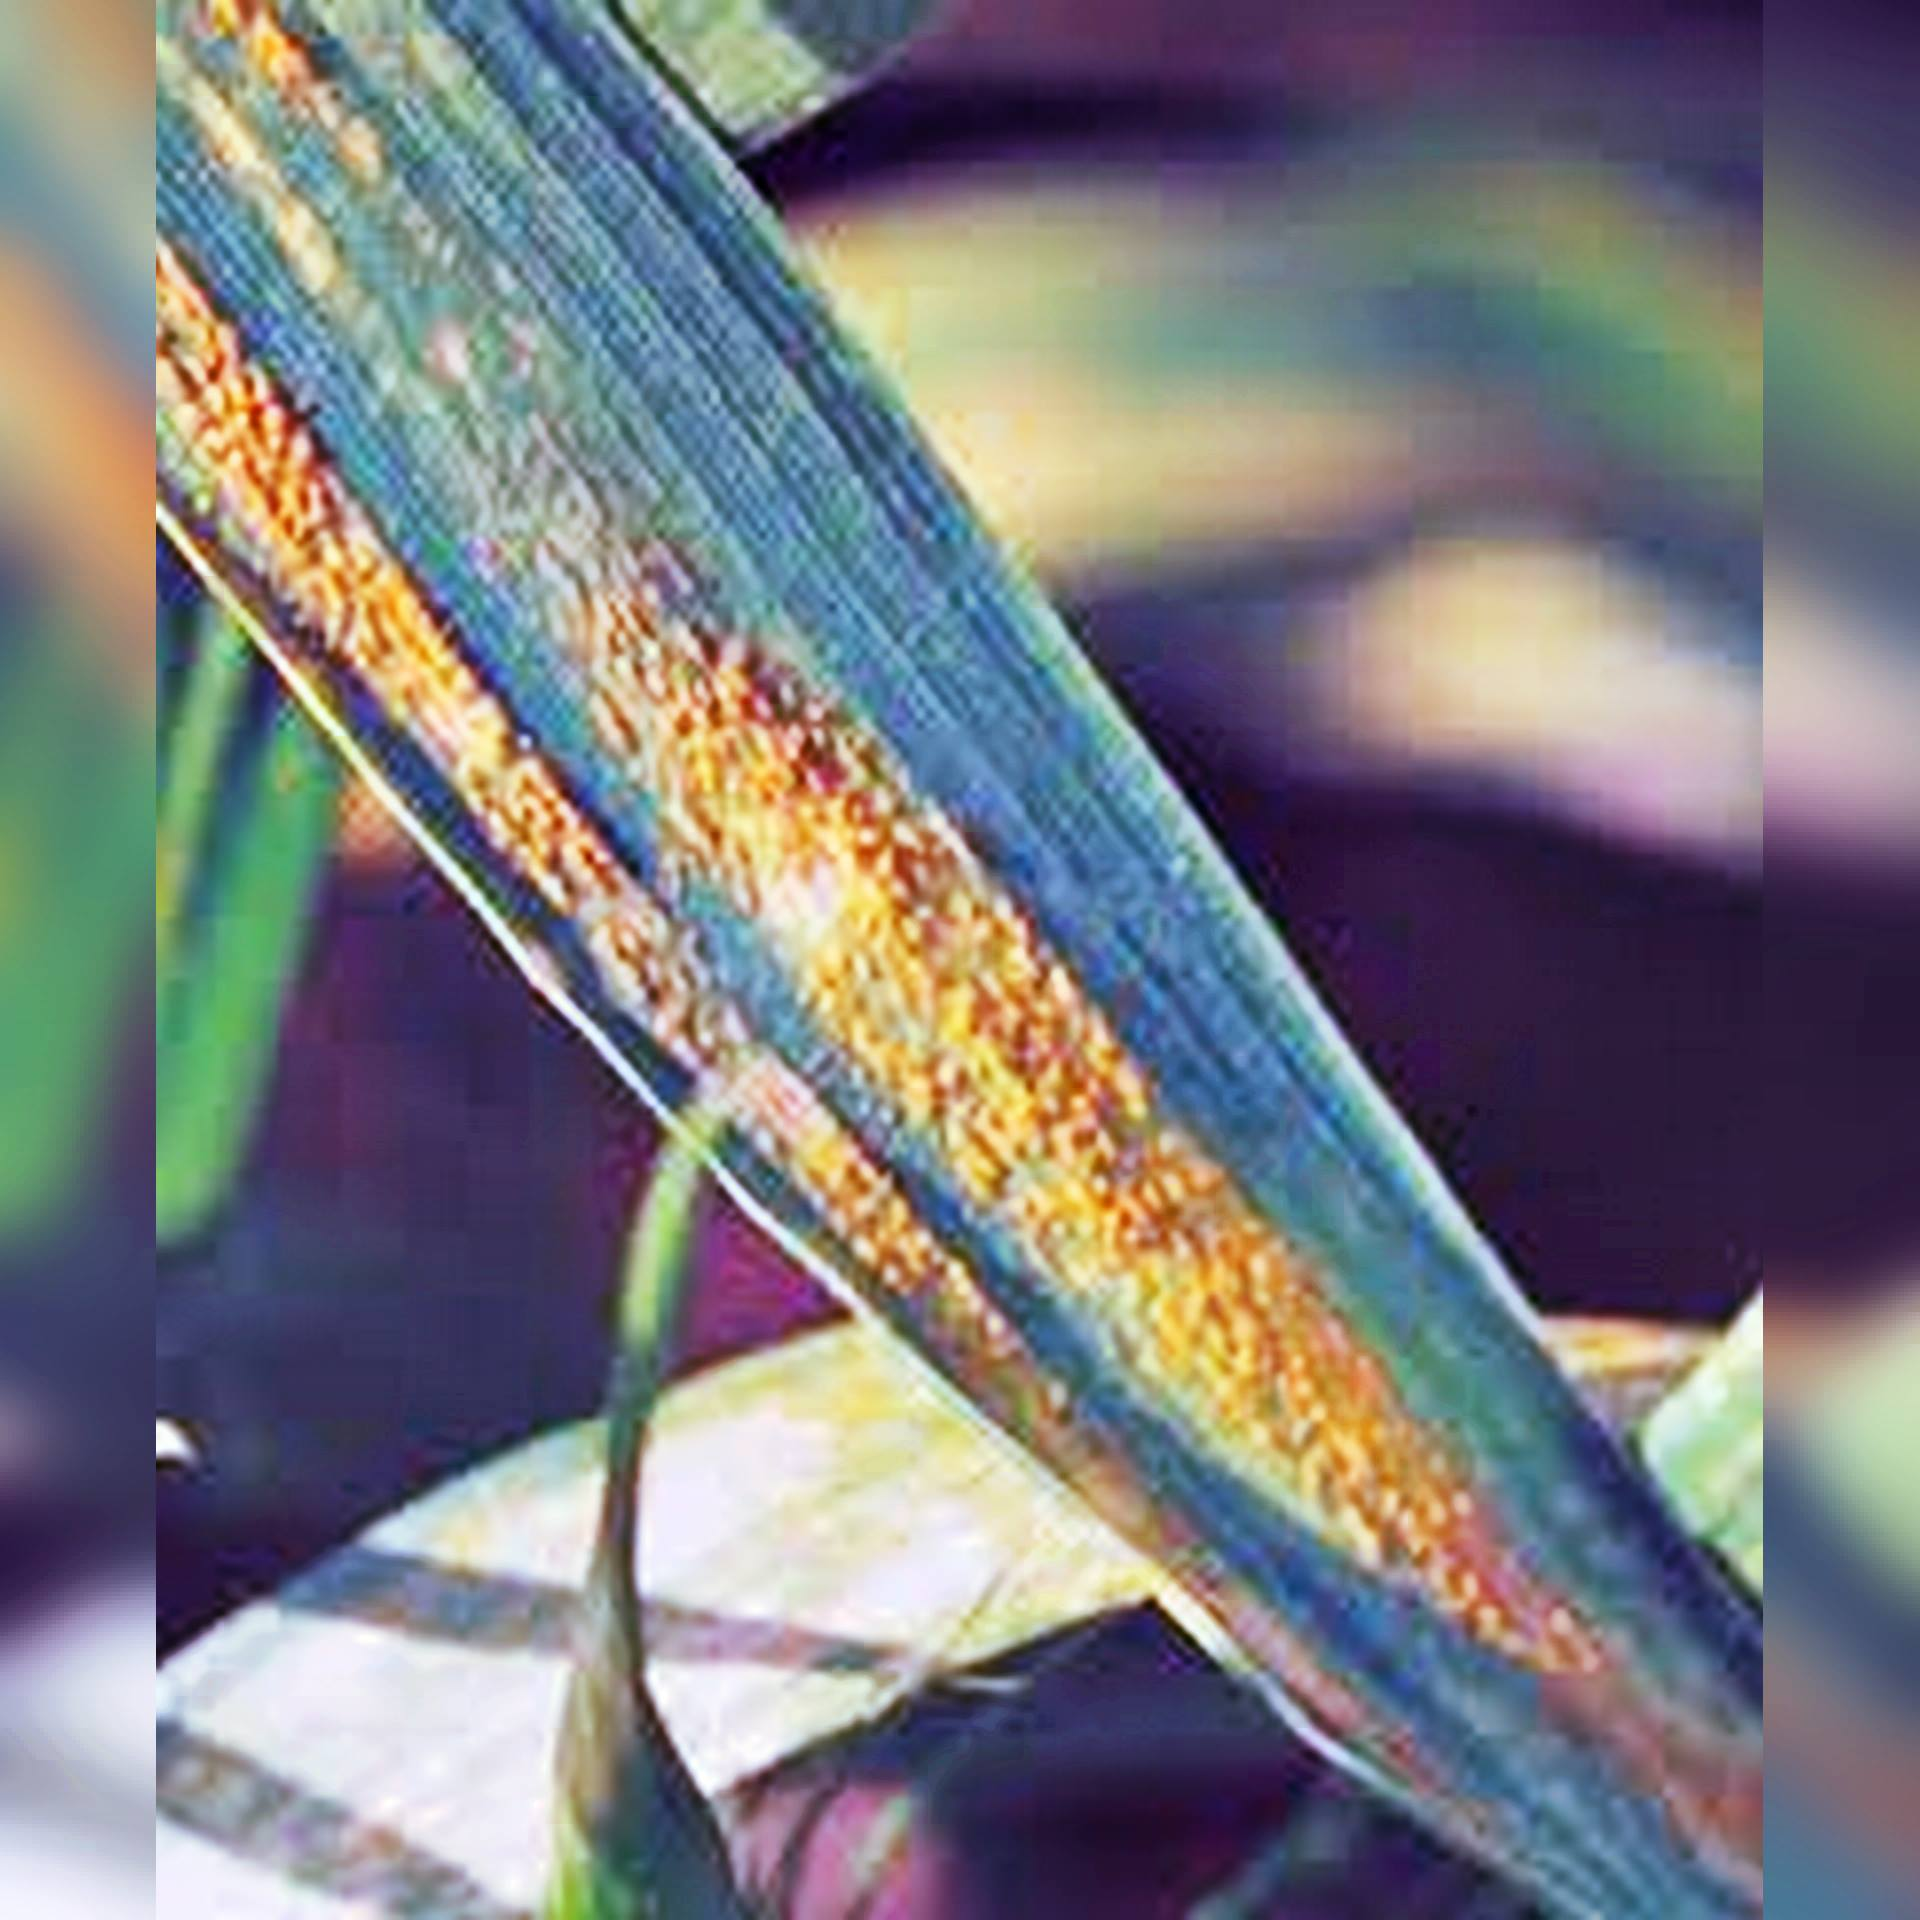Leaf Rust: (290, 404, 1521, 1690)
